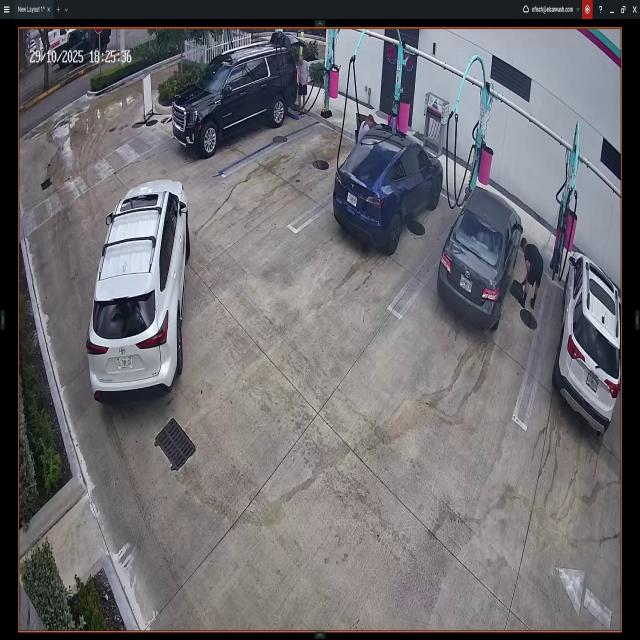Car: (90, 178, 189, 391), (333, 122, 443, 251), (173, 46, 298, 150), (555, 251, 620, 438), (438, 184, 522, 328)
